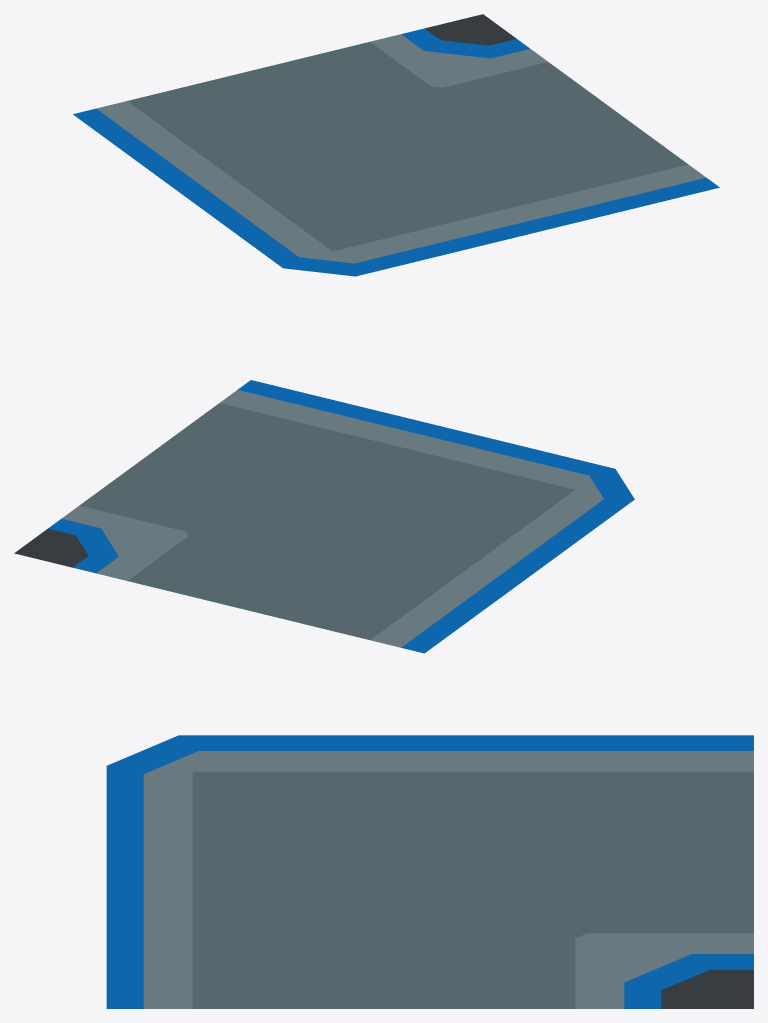
The model's file is Ceiling_type_C_033.fbx.
The picture shows the model from 3 angles, top to bottom: view 1: azimuth 30°, elevation 25°; view 2: azimuth 150°, elevation 25°; view 3: azimuth 270°, elevation 25°; orthographic projection. The views are drawn at different scales.
Parts seen in each view (by area): view 1: Ceiling_type_C_033; view 2: Ceiling_type_C_033; view 3: Ceiling_type_C_033.
Boxes of the visible parts, bbox=[...] form: Ceiling_type_C_033: bbox=[73, 14, 719, 276]; Ceiling_type_C_033: bbox=[14, 380, 634, 653]; Ceiling_type_C_033: bbox=[106, 735, 753, 1008].
Size of the model in its own units: 400 by 400 by 6.18.
